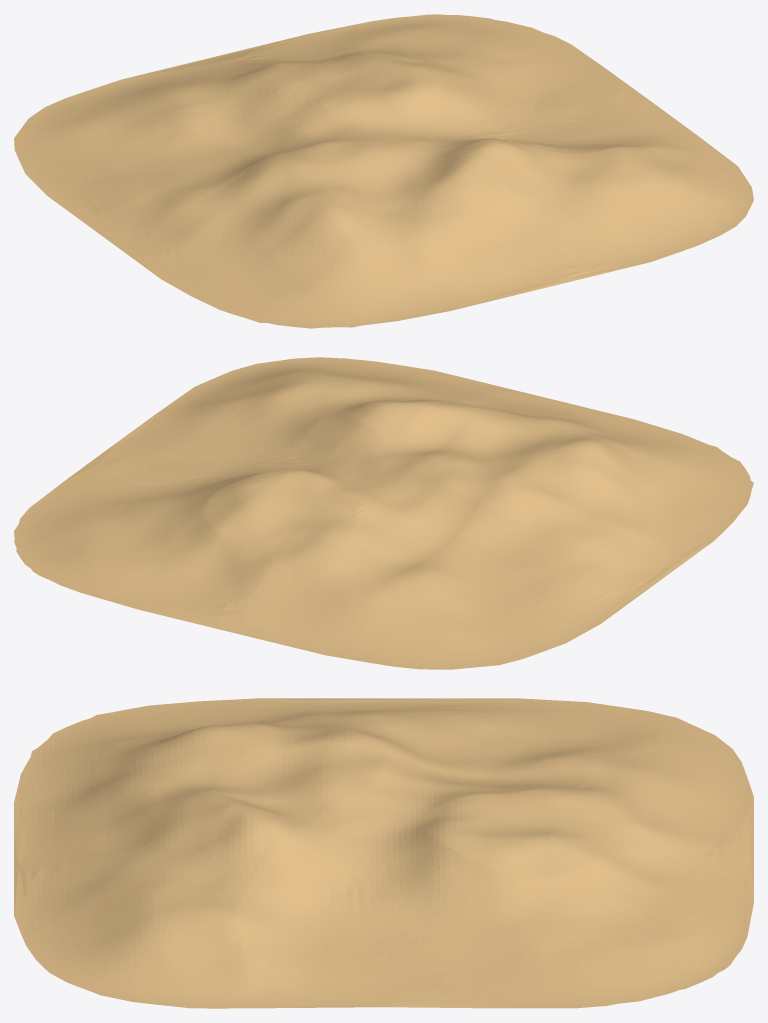
File: MT_Island_H_c_07.fbx
The picture shows the model from 3 angles, top to bottom: view 1: azimuth 30°, elevation 25°; view 2: azimuth 150°, elevation 25°; view 3: azimuth 270°, elevation 25°; orthographic projection. The views are drawn at different scales.
Visible parts, largest first — view 1: MT_Island_H_c_07; view 2: MT_Island_H_c_07; view 3: MT_Island_H_c_07.
Part boxes in pixels (box(x1,y1,x2,y2)): MT_Island_H_c_07: box(14, 14, 753, 328); MT_Island_H_c_07: box(14, 357, 753, 669); MT_Island_H_c_07: box(14, 698, 753, 1008).
Size of the model in its own units: 49622 by 4841 by 50000.
